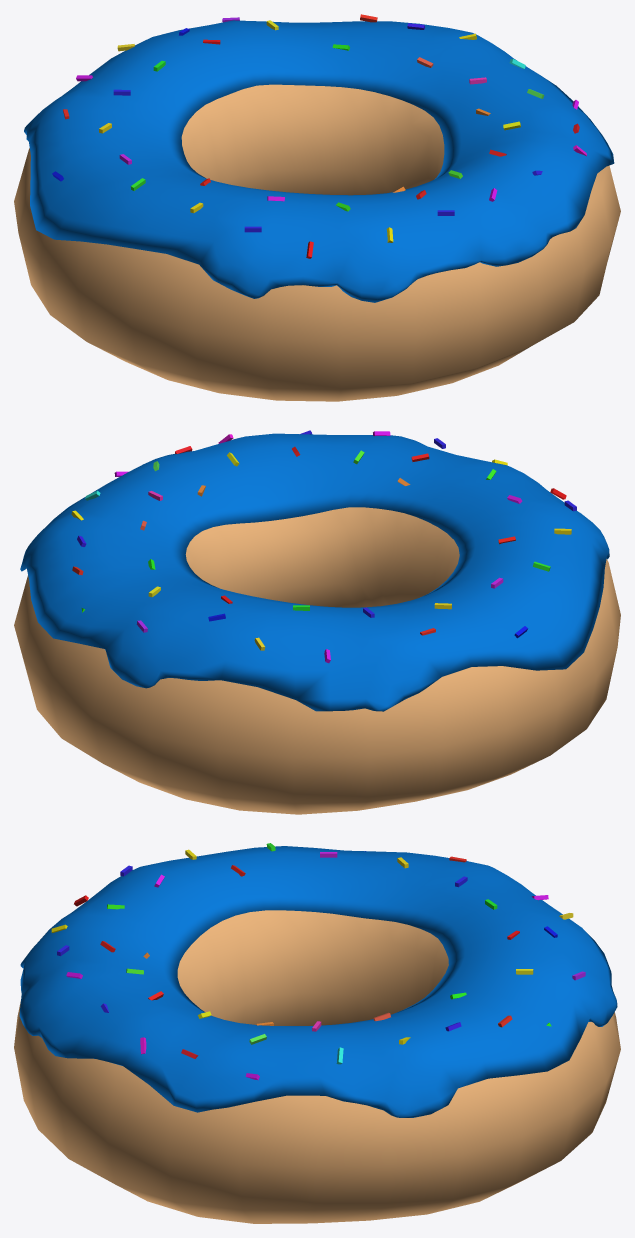
File: Lowpoly-Donut-Blue.fbx
The picture shows the model from 3 angles, top to bottom: view 1: azimuth 30°, elevation 25°; view 2: azimuth 150°, elevation 25°; view 3: azimuth 270°, elevation 25°; orthographic projection.
Visible parts, largest first — view 1: Icing, Donut; view 2: Icing, Donut; view 3: Icing, Donut.
Boxes of the visible parts, x1,y1,x2,y2 form: Icing: (24, 20, 614, 302); Donut: (14, 84, 620, 401); Icing: (20, 433, 609, 711); Donut: (14, 507, 620, 814); Icing: (19, 846, 617, 1117); Donut: (14, 910, 620, 1223).
Bounding box in the file's own units: 14.32 × 4.94 × 14.16.
